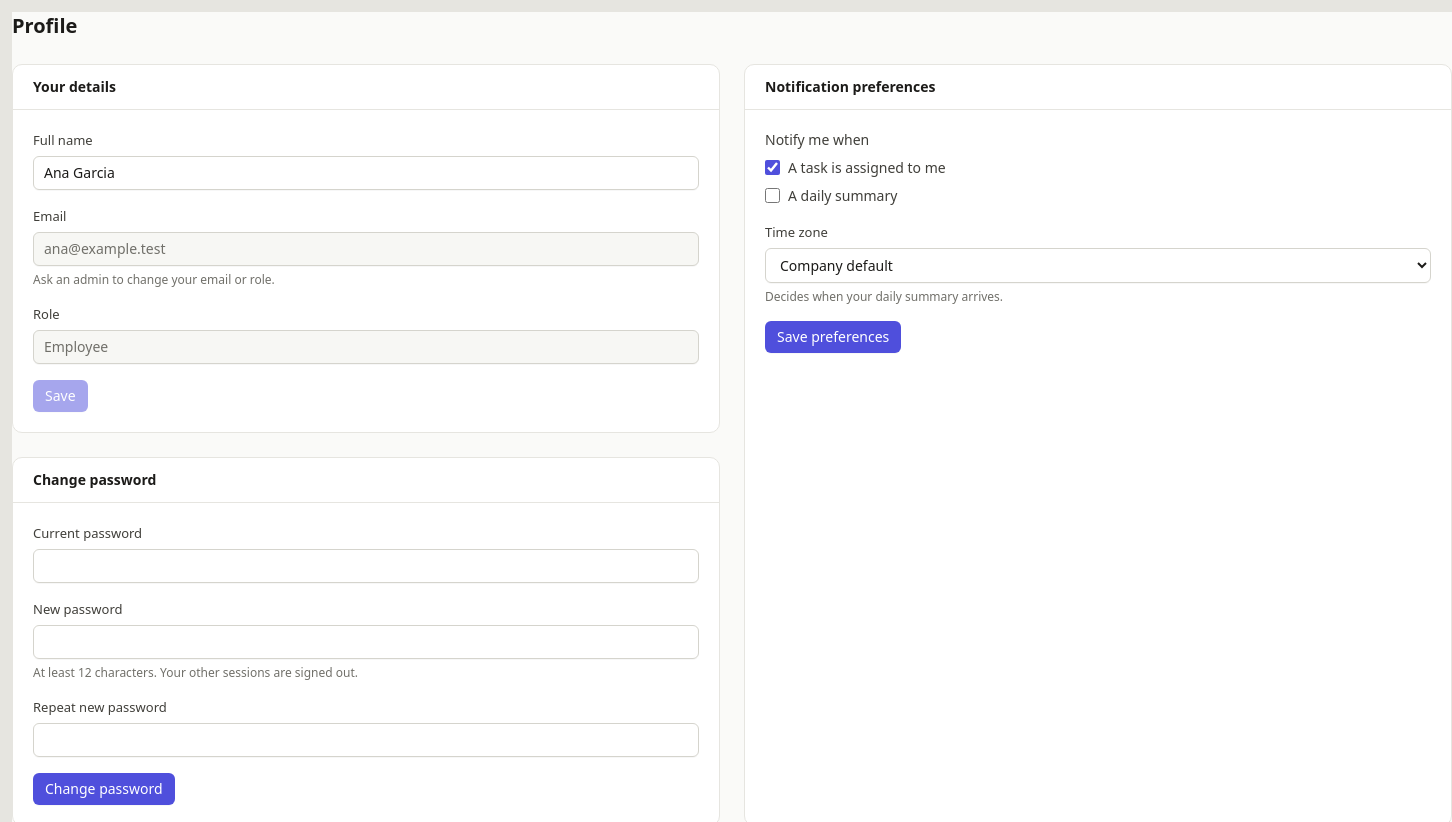
Test case: preferences › shows only the kinds of this role with their saved state, and saves them with the time zone
This screenshot has width=1452, height=822.
Check: the checkbox labelled "A daily summary" is not checked, box [765,188,780,203]
Click the checkbox labelled "A task is assigned to me" at (772, 168), box [765,160,780,175]
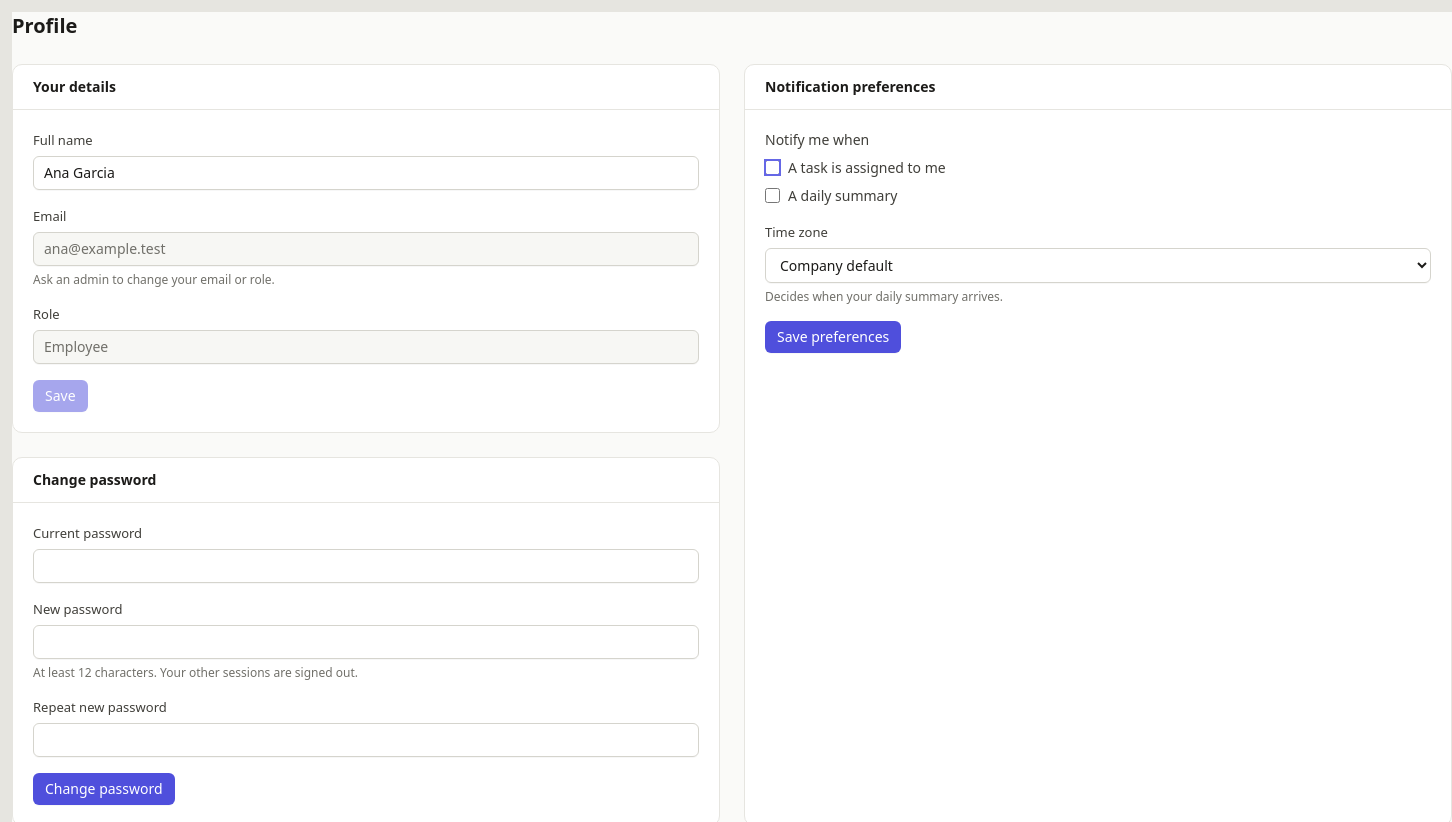
Select "Asia/Kolkata" in the dropdown labelled "Time zone" at (1098, 266), box [765,248,1431,283]
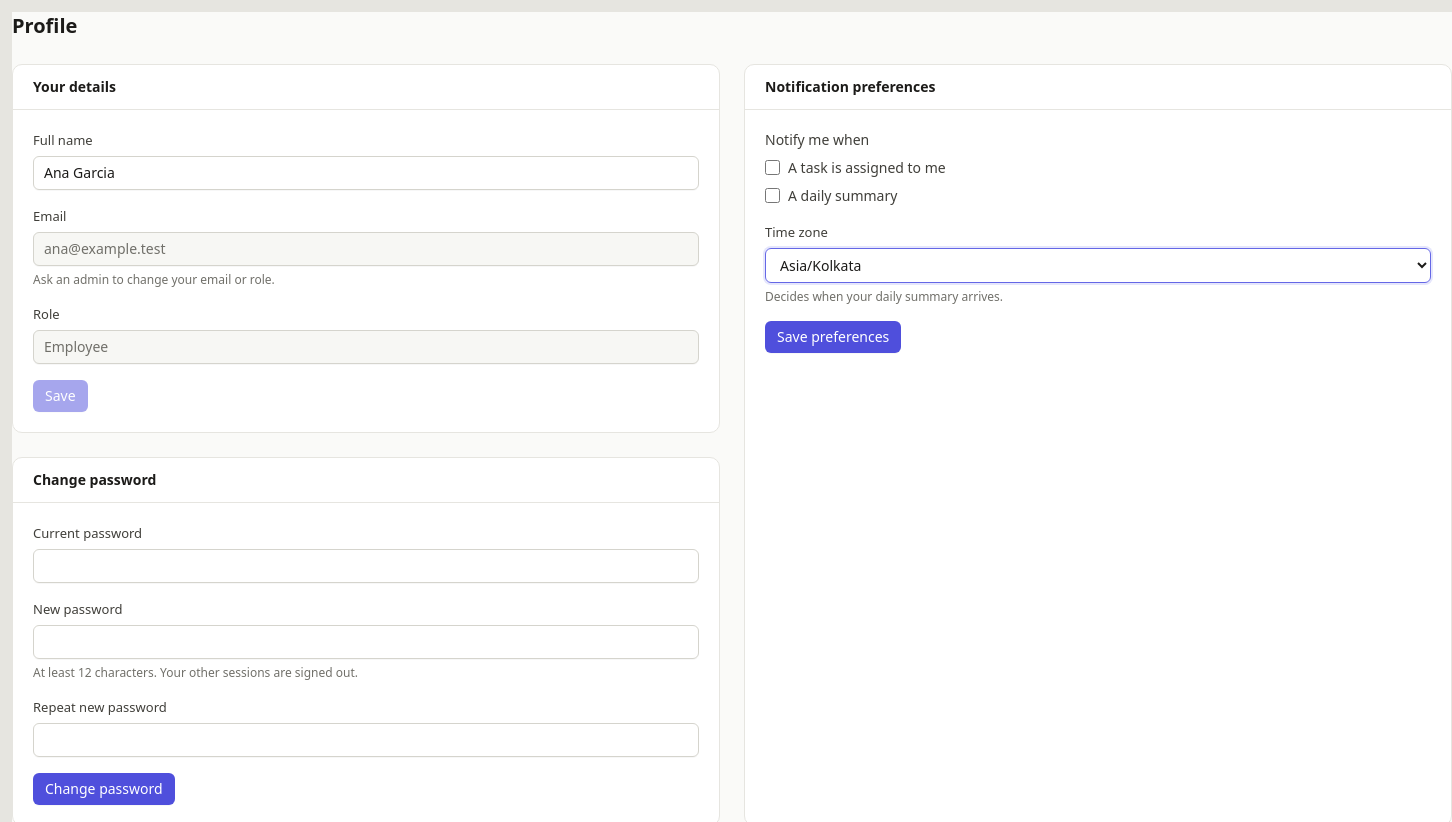
Click the button "Save preferences" at (833, 337), box [765,321,901,353]
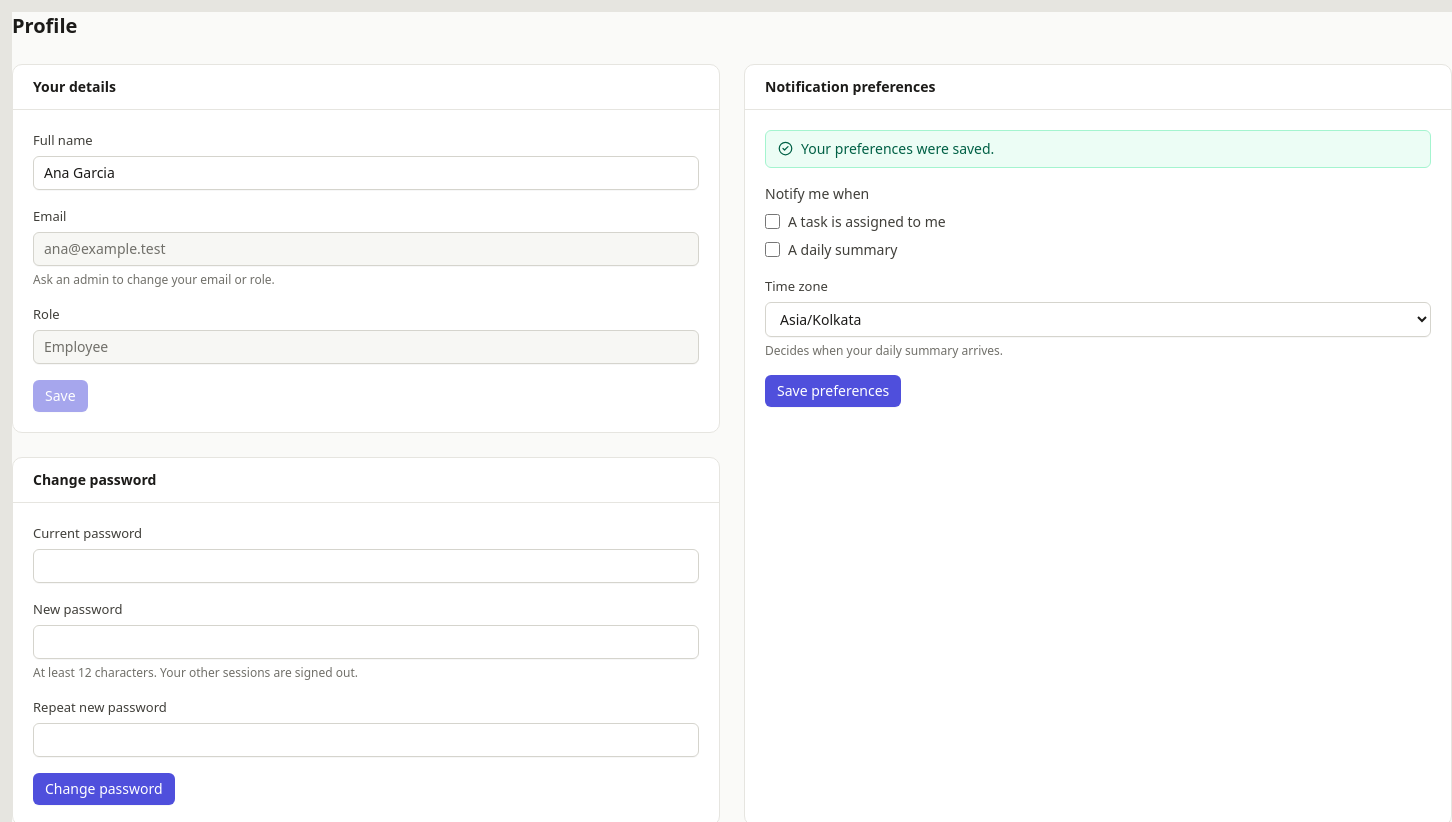
Check: the message reads "Your preferences were saved.", box [801,139,994,158]
